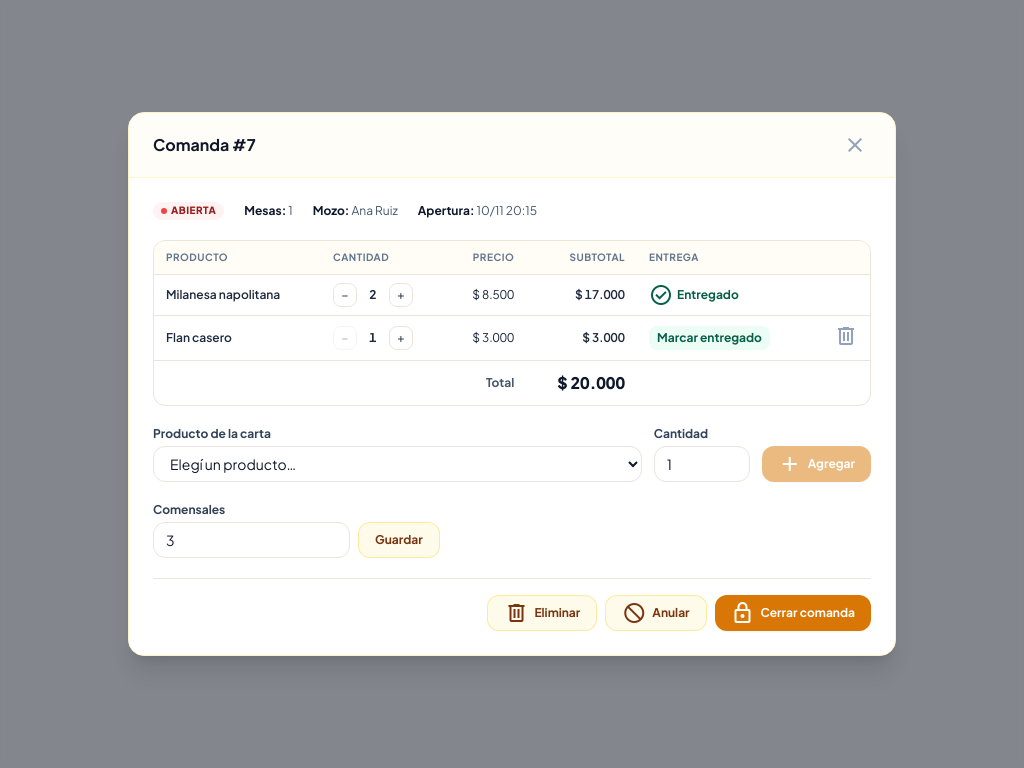
it: ComandaPanel › HU-05c: muestra el error del backend al cerrar con productos pendientes
What coordinates should you click on to do the following:
click the button "Cerrar comanda"
I would click on:
 (793, 613)
Its box is x1=715 y1=595 x2=871 y2=631.
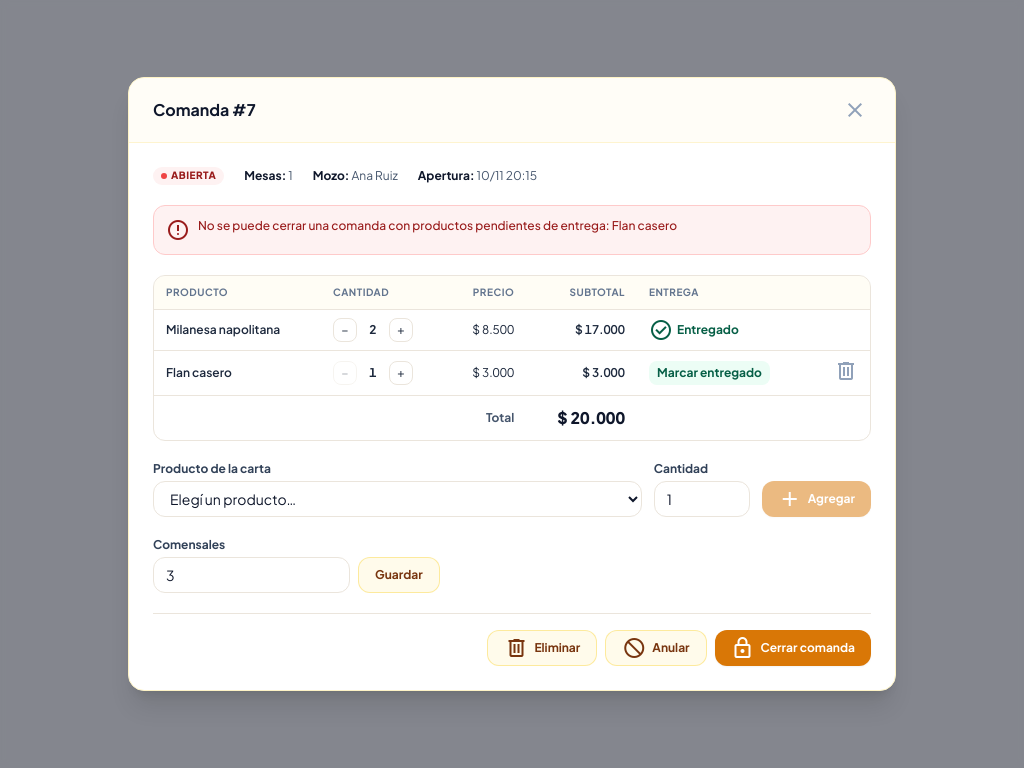
expect the text "productos pendientes de entrega" is shown: met, box x1=198 y1=218 x2=677 y2=232
